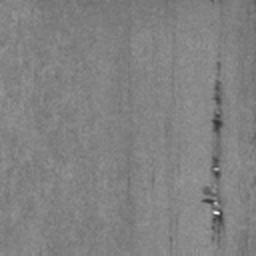Slag inclusion: (200, 186, 227, 242), (210, 60, 224, 136), (209, 155, 221, 180)
